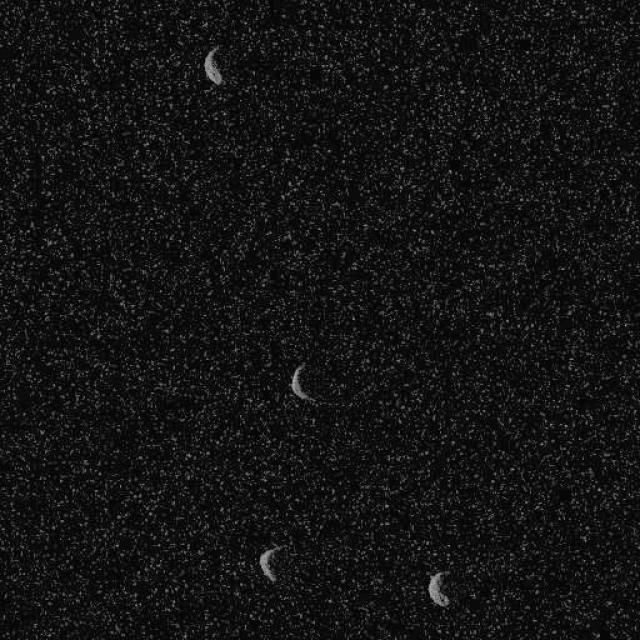D2: (289, 362, 316, 402), (426, 568, 450, 608), (258, 542, 282, 582), (202, 44, 222, 86)
